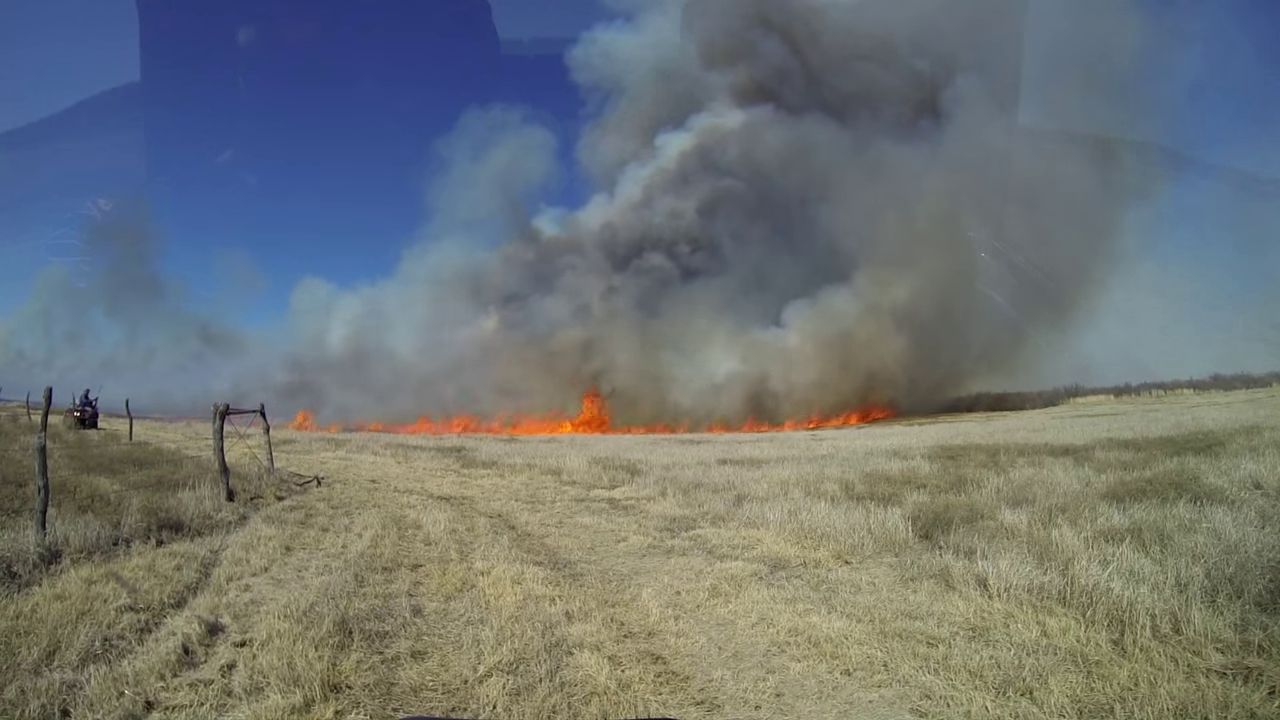forest_fire: (350, 387, 693, 434), (703, 405, 895, 432), (290, 409, 340, 432)
